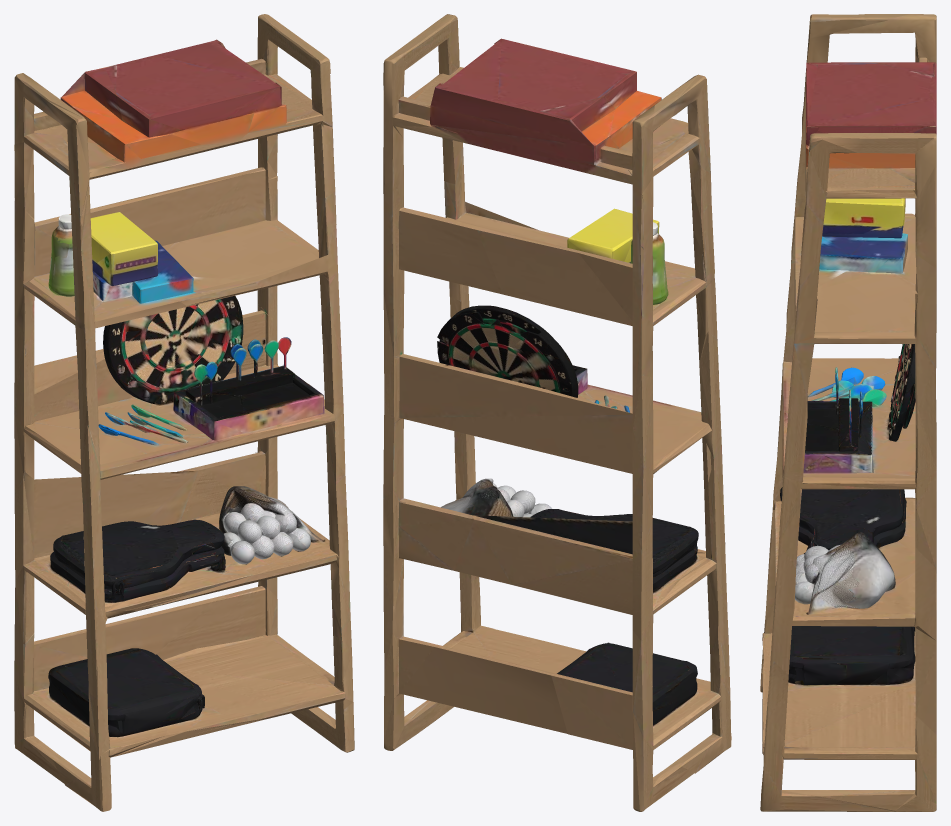
File: ladder_shelf.glb
3 views of the same model, side by side, from view 1: azimuth 30°, elevation 25°; view 2: azimuth 150°, elevation 25°; view 3: azimuth 270°, elevation 25° (orthographic). The views are drawn at different scales.
Visible parts, largest first — view 1: 0; view 2: 0; view 3: 0.
Part boxes in pixels (bbox=[...]): 0: bbox=[14, 14, 354, 811]; 0: bbox=[383, 14, 731, 811]; 0: bbox=[760, 14, 936, 811].
Size of the model in its own units: 0.75 by 1.9 by 0.45.
1 material, 1 textured.
